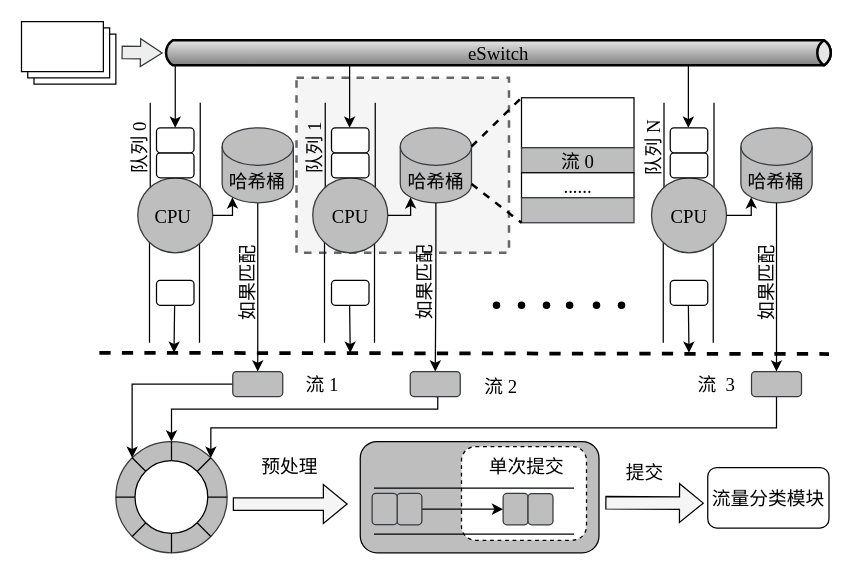
This 858x576 diagram has some shape labels left out. Each missing label, with the box of its shape:
哈希表: (520, 96, 634, 148)
数据包: (20, 20, 116, 84)
流 N: (520, 196, 634, 223)
环形队列: (134, 459, 208, 533)
调度器: (359, 440, 599, 553)
